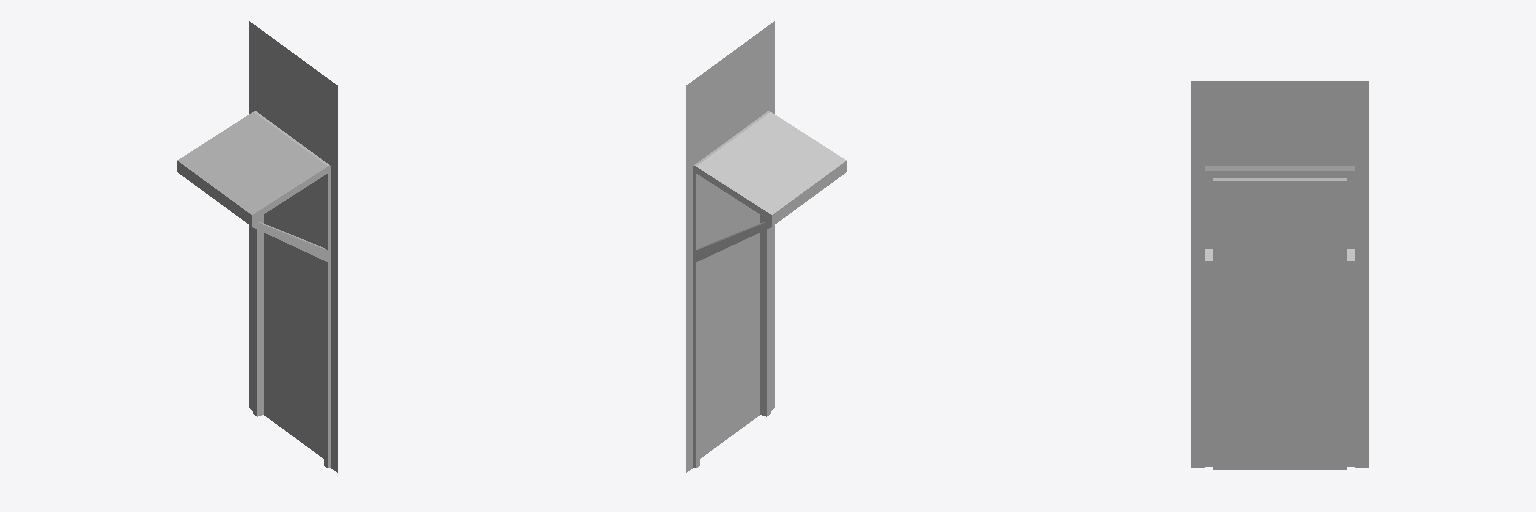
Rendered from Door_4.obj.
3 views of the same model, side by side, from view 1: azimuth 30°, elevation 25°; view 2: azimuth 150°, elevation 25°; view 3: azimuth 270°, elevation 25° (orthographic).
Visible parts, largest first — view 1: Door5; view 2: Door5; view 3: Door5.
Part boxes in pixels (x1,y1,x2,y2): Door5: (177, 21, 337, 472); Door5: (686, 21, 846, 472); Door5: (1191, 81, 1368, 469).
Size of the model in its own units: 0.6708 by 3 by 1.25.